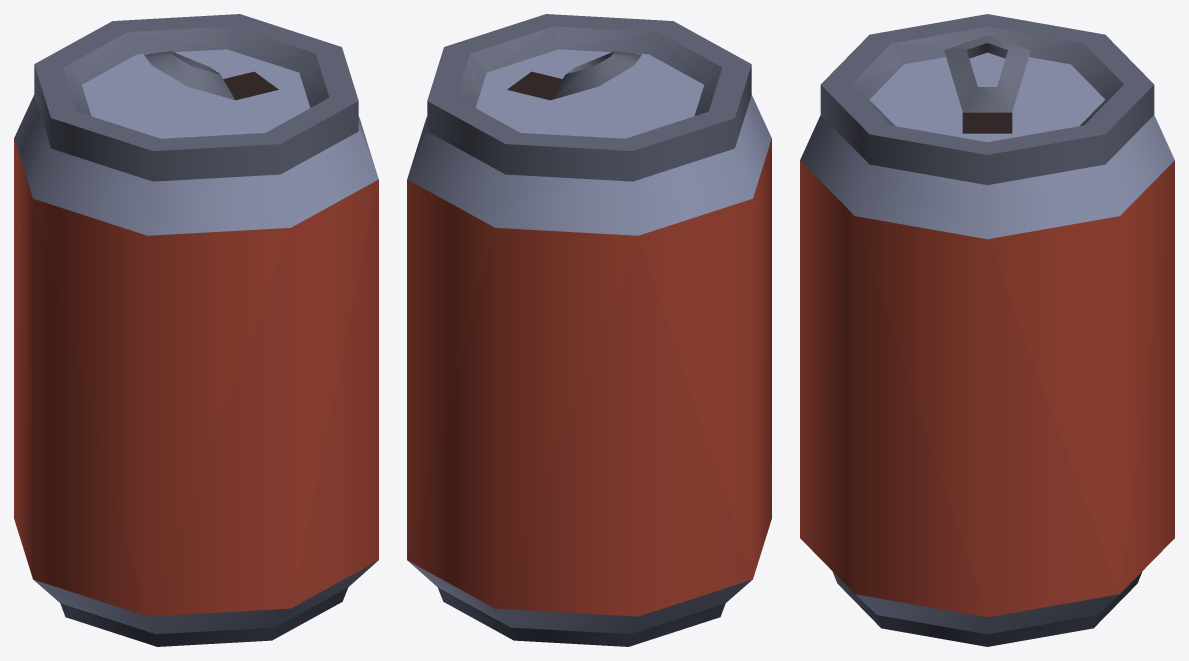
Rendered from food_soda_can.glb.
The picture shows the model from 3 angles, left to right: view 1: azimuth 30°, elevation 25°; view 2: azimuth 150°, elevation 25°; view 3: azimuth 270°, elevation 25°; orthographic projection.
Visible parts, largest first — view 1: food_soda_can; view 2: food_soda_can; view 3: food_soda_can.
Part boxes in pixels (x1,y1,x2,y2): food_soda_can: (14,14,378,646); food_soda_can: (407,14,771,646); food_soda_can: (800,14,1174,646).
Size of the model in its own units: 0.2246 by 0.3506 by 0.2246.
